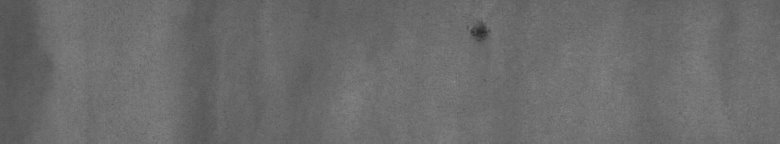fi: (467, 16, 492, 44)
